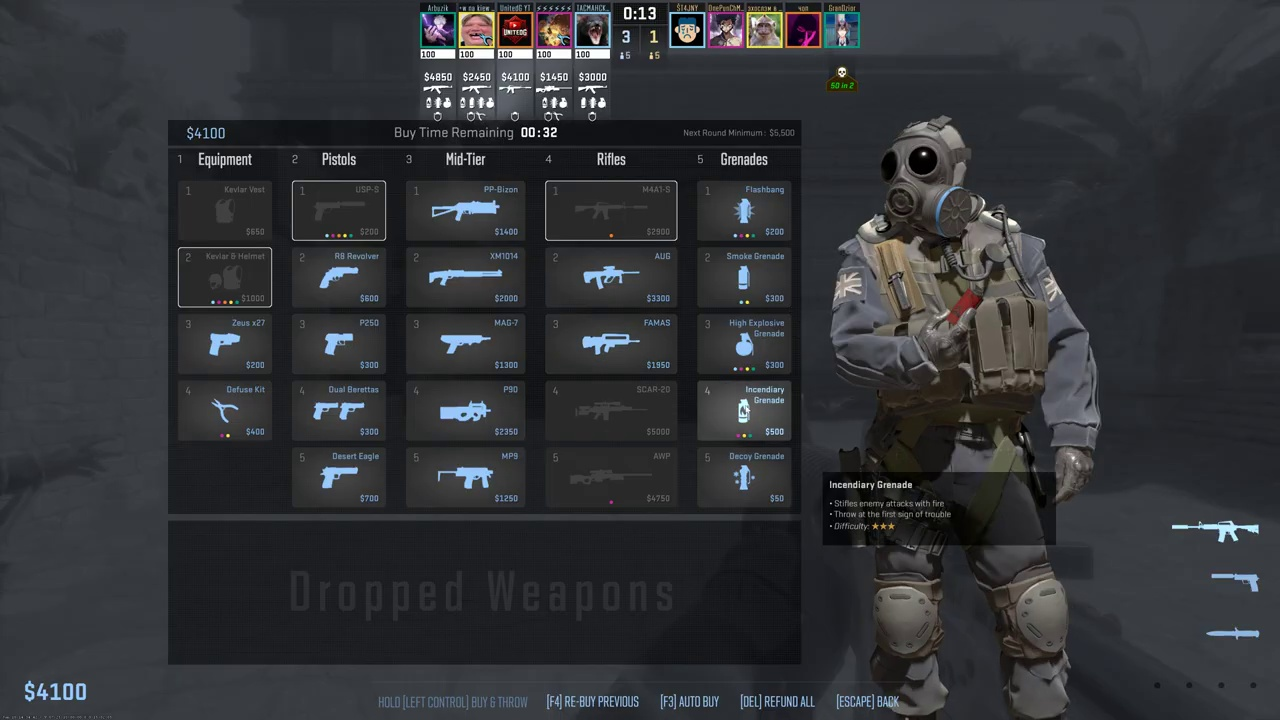CT: (858, 120, 1075, 720)
